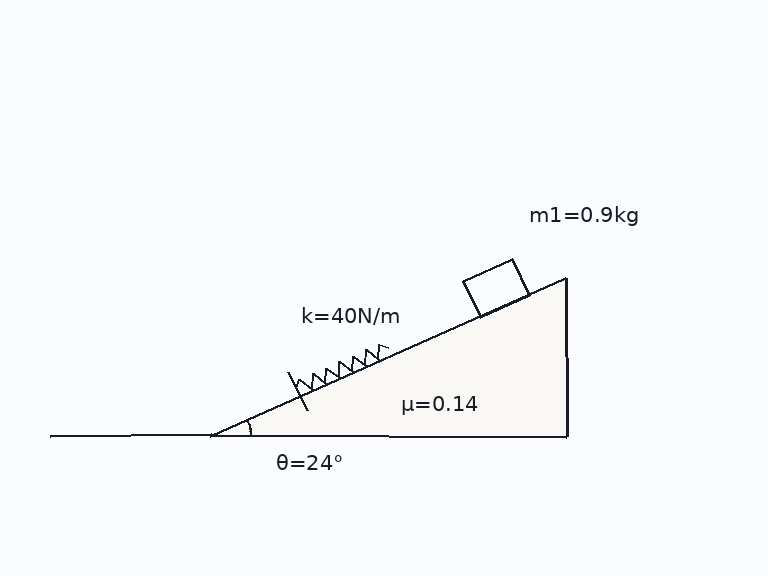block: (462, 257, 530, 318)
ramp: (209, 276, 568, 438)
spring: (294, 342, 391, 391)
